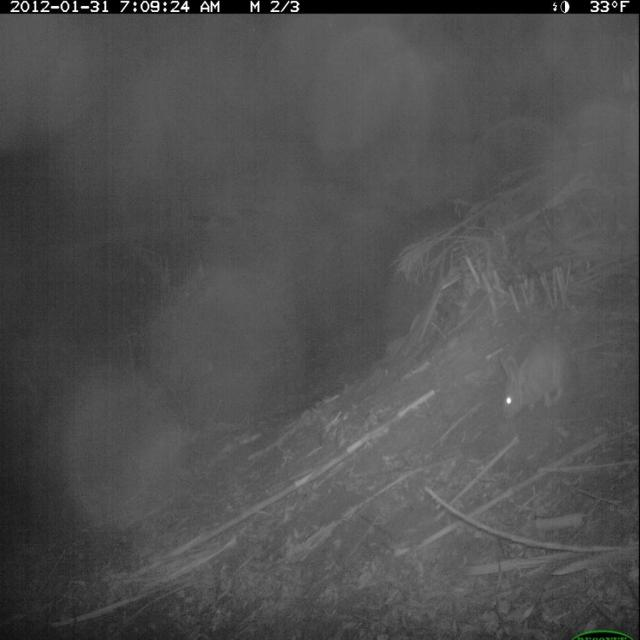rabbit: (493, 336, 576, 430)
